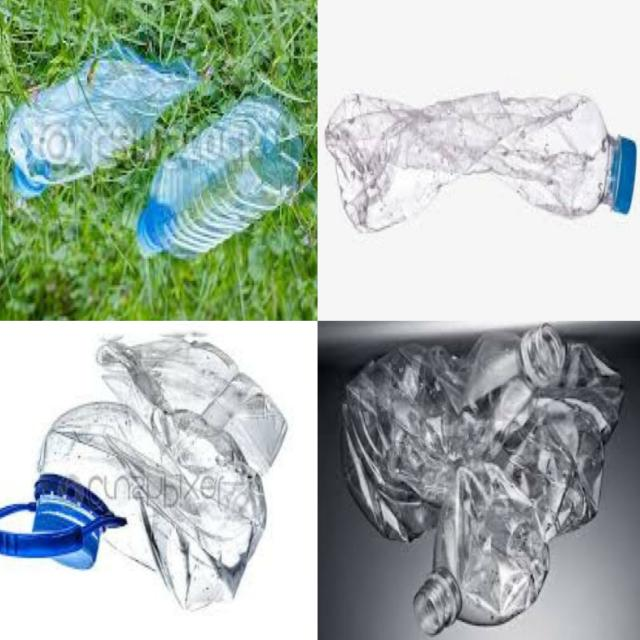plastik: (0, 337, 287, 610), (414, 343, 623, 635), (343, 325, 566, 542), (325, 94, 636, 233), (7, 44, 199, 196), (137, 97, 302, 258)
